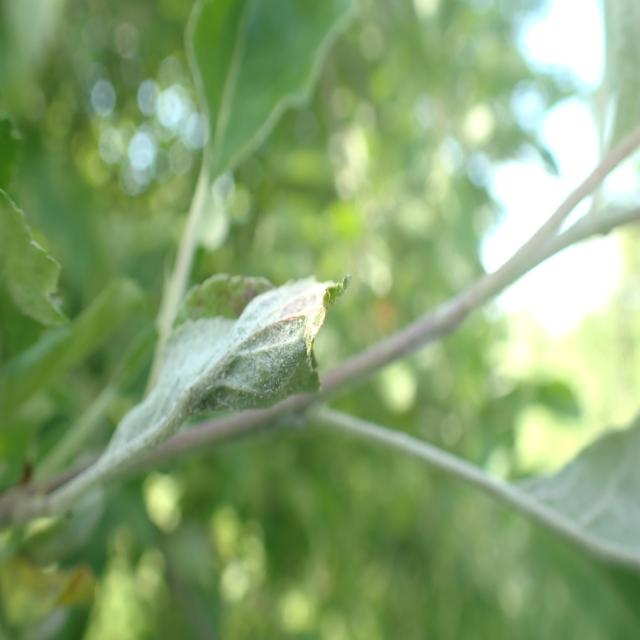Powdery_mildew: (39, 274, 349, 568)
